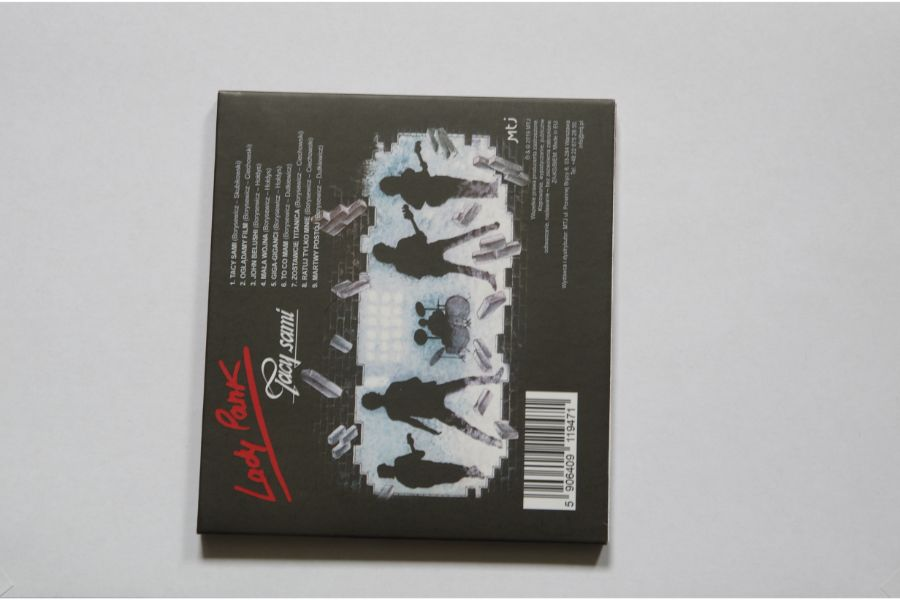album: (196, 90, 613, 548)
